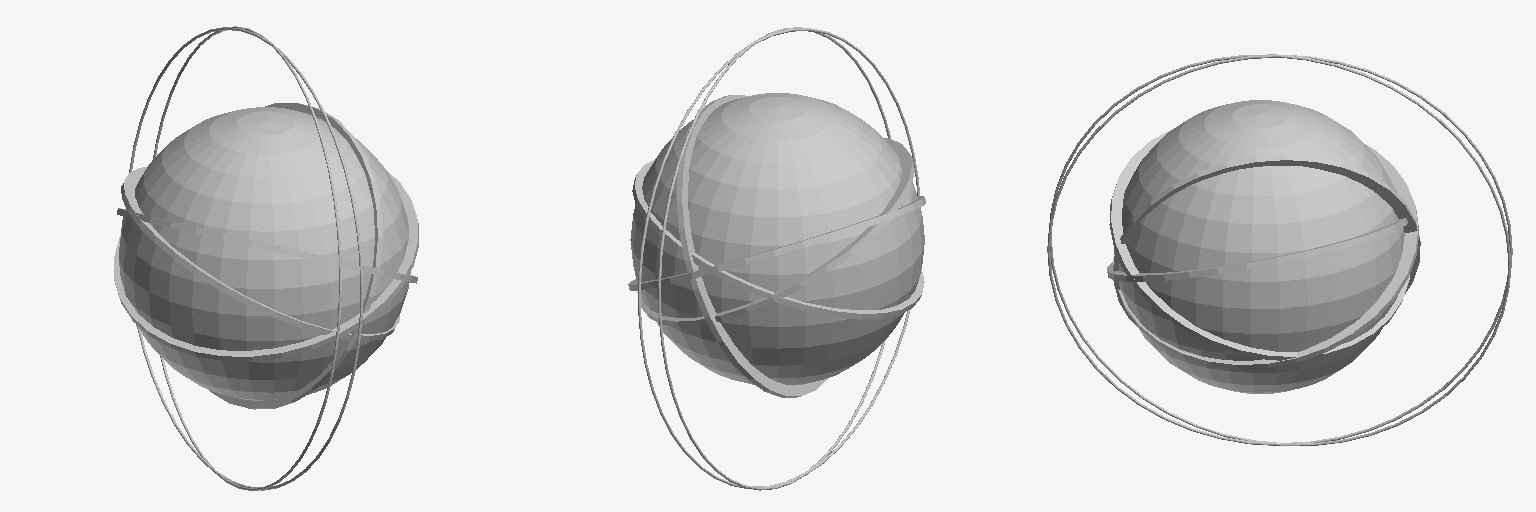
The model's file is tetraorthodrome.obj.
The picture shows the model from 3 angles: view 1: azimuth 30°, elevation 25°; view 2: azimuth 150°, elevation 25°; view 3: azimuth 270°, elevation 25°; orthographic projection.
Visible parts, largest first — view 1: Sphere, Cylinder, Cylinder.002, Cylinder.003, Torus.002, Cylinder.001, Torus, Torus.001; view 2: Sphere, Cylinder.002, Cylinder.001, Cylinder, Torus.002, Cylinder.003, Torus, Torus.001; view 3: Sphere, Cylinder.001, Cylinder.003, Cylinder.002, Torus.002, Cylinder, Torus, Torus.001.
Boxes of the visible parts, <box> form: Sphere: <box>119,107,410,400</box>; Cylinder: <box>114,170,418,360</box>; Cylinder.002: <box>209,103,382,409</box>; Cylinder.003: <box>121,167,399,340</box>; Torus.002: <box>153,26,341,490</box>; Cylinder.001: <box>117,208,417,283</box>; Torus: <box>129,27,362,490</box>; Torus.001: <box>129,29,360,487</box>; Sphere: <box>630,93,924,384</box>; Cylinder.002: <box>677,95,827,397</box>; Cylinder.001: <box>637,138,914,326</box>; Cylinder: <box>632,160,924,319</box>; Torus.002: <box>638,28,919,488</box>; Cylinder.003: <box>628,196,925,290</box>; Torus: <box>658,27,890,490</box>; Torus.001: <box>661,31,890,488</box>; Sphere: <box>1114,100,1404,393</box>; Cylinder.001: <box>1109,129,1409,360</box>; Cylinder.003: <box>1113,144,1418,368</box>; Cylinder.002: <box>1113,155,1420,326</box>; Torus.002: <box>1050,54,1510,445</box>; Cylinder: <box>1107,218,1407,281</box>; Torus: <box>1047,55,1512,445</box>; Torus.001: <box>1049,57,1510,444</box>.
Size of the model in its own units: 2.02 by 3.13 by 3.16.